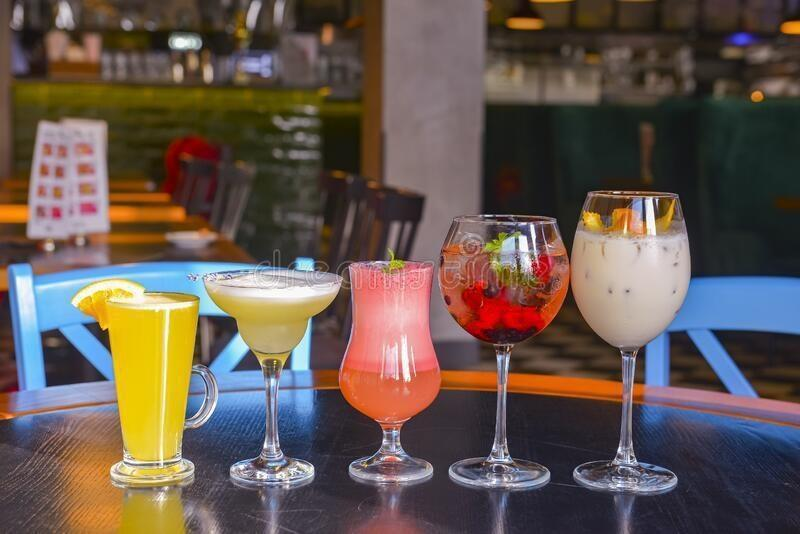glass-mug: (104, 288, 218, 486)
glass-wine: (569, 188, 693, 492), (437, 212, 570, 489), (201, 262, 342, 487), (338, 258, 441, 485)
